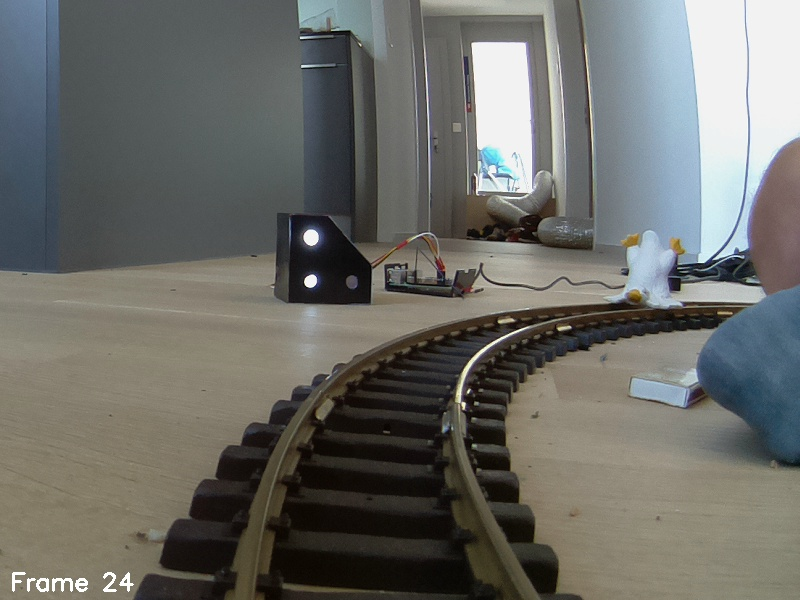Ente: (603, 226, 688, 320)
Fahrt: (274, 213, 374, 309)
